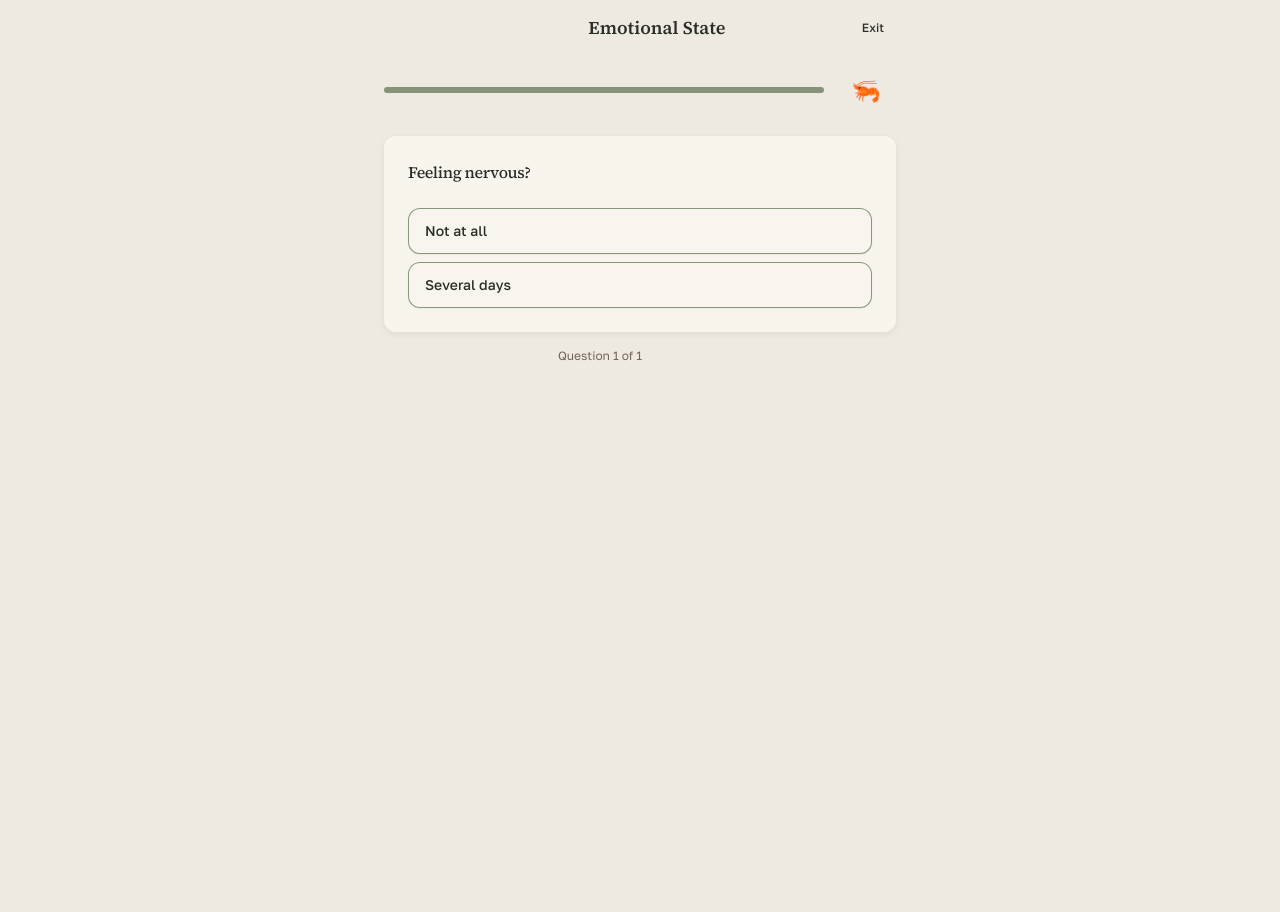
TestDetailPage › shows result after answering all questions
Expected: the heading "Feeling nervous?" is shown, [408,161,531,183]
Click the button "Several days".
click(468, 284)  # box [408,262,872,308]
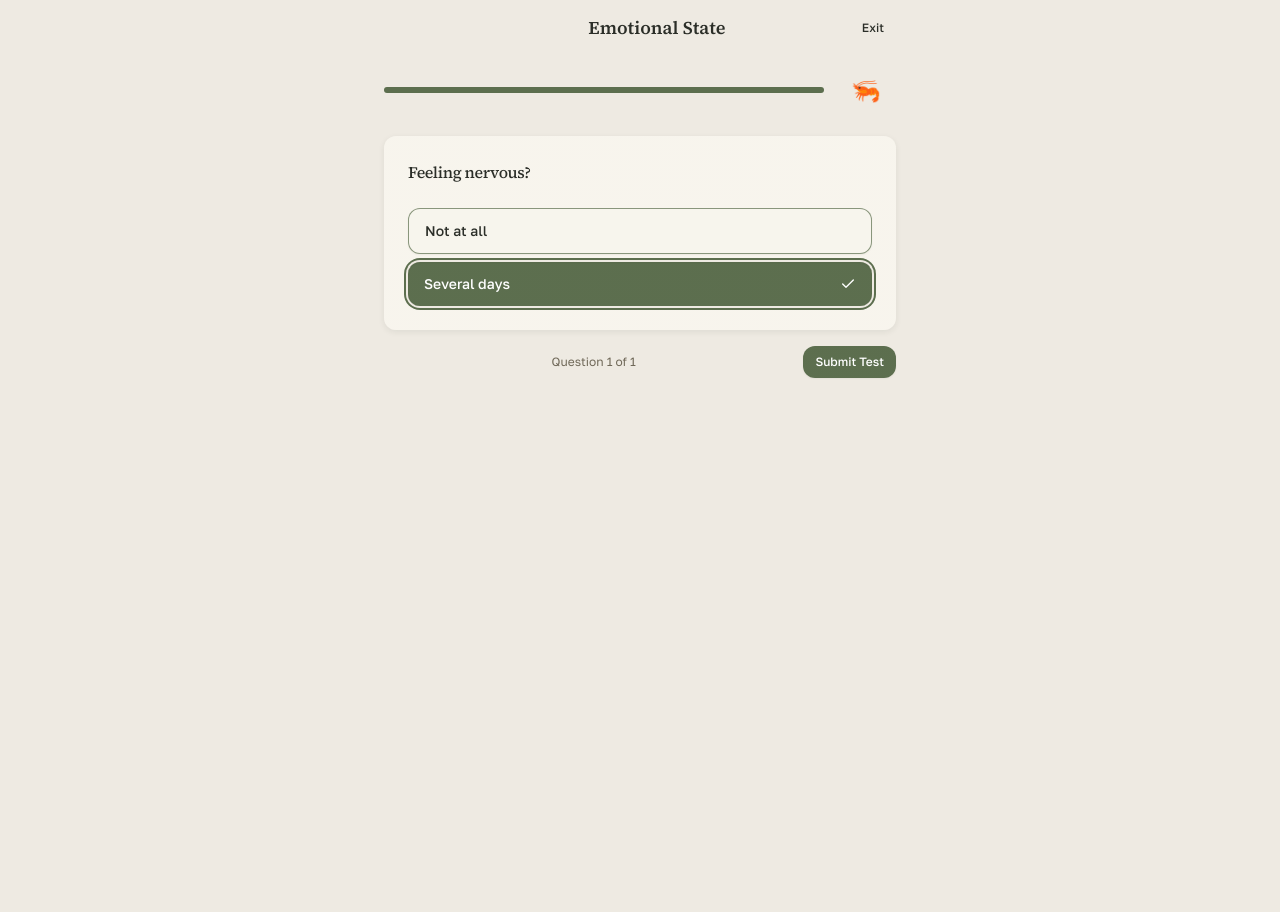
Click the button "Submit Test".
click(850, 362)  # box [803,346,896,378]
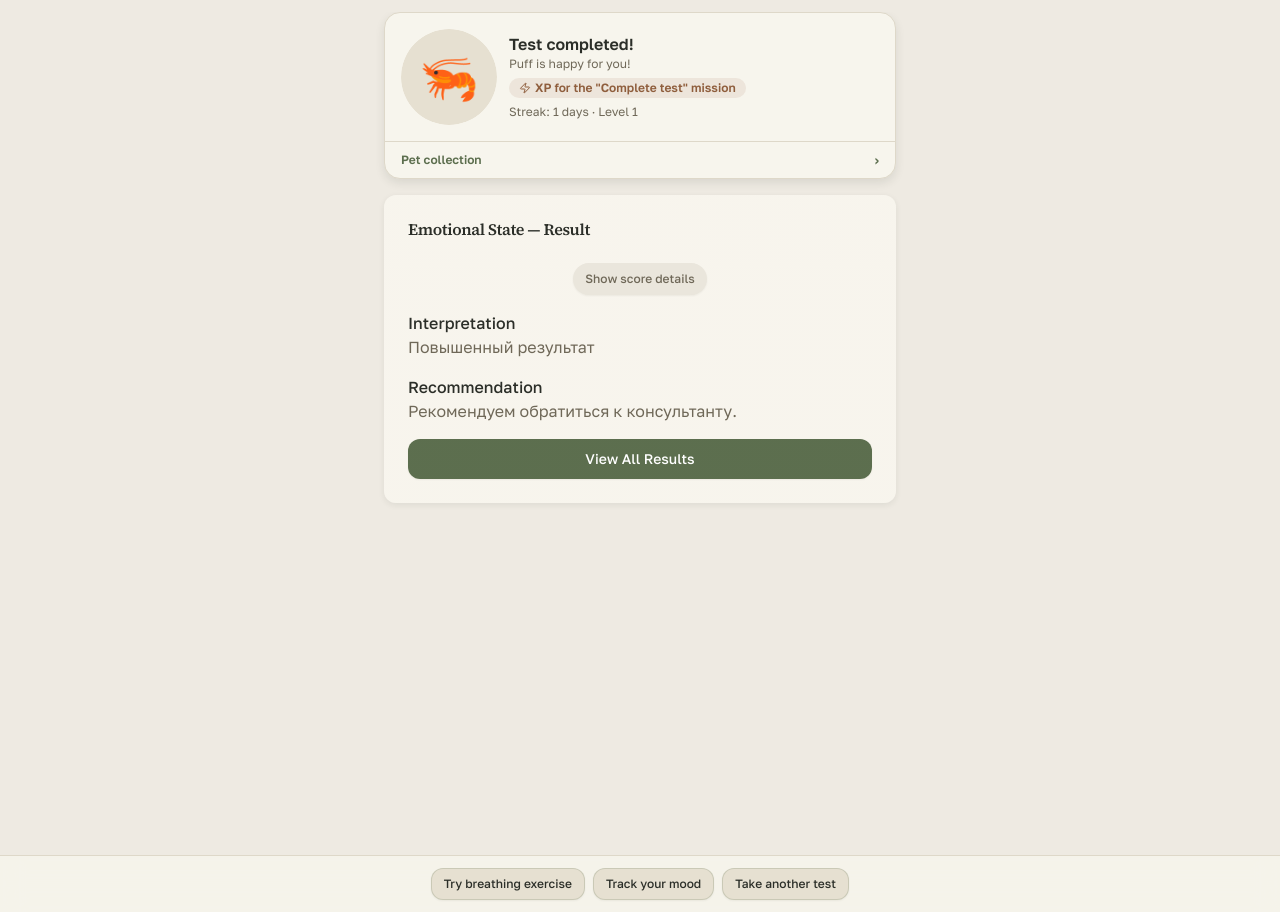
Expected: the text "Повышенный результат" is shown, [408,337,595,357]
